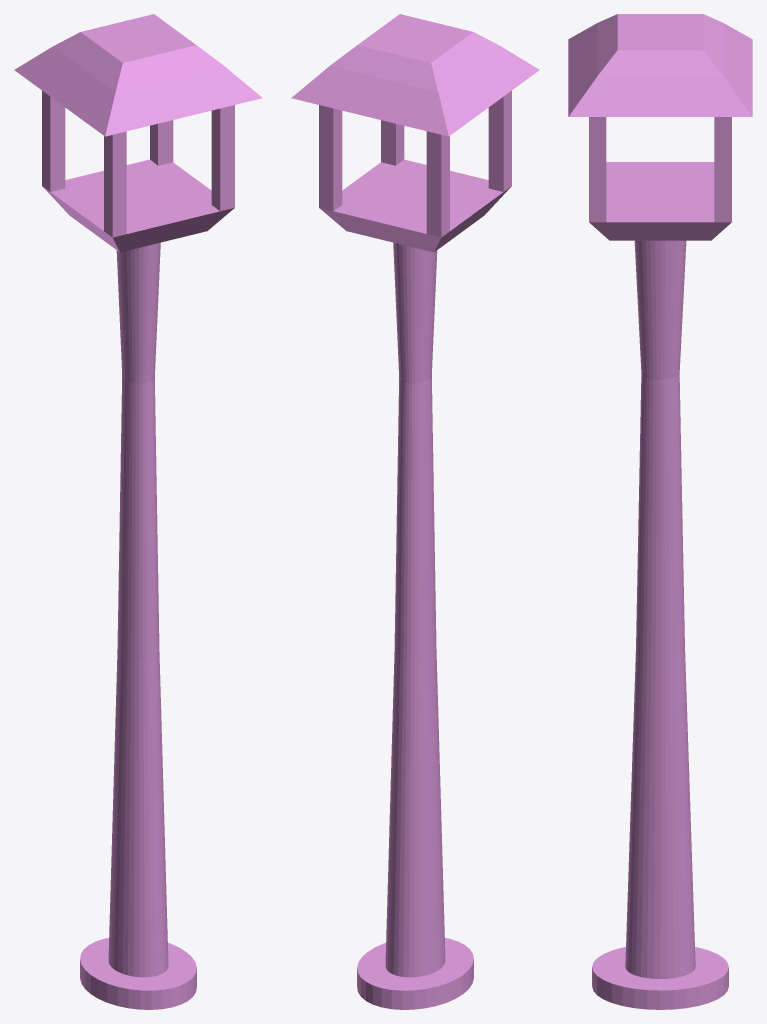
Rendered from Lamp.fbx.
The picture shows the model from 3 angles, left to right: view 1: azimuth 30°, elevation 25°; view 2: azimuth 150°, elevation 25°; view 3: azimuth 270°, elevation 25°; orthographic projection.
Parts seen in each view (by area): view 1: Cylinder, Cube; view 2: Cylinder, Cube; view 3: Cylinder, Cube.
Part boxes in pixels (box(x1,y1,x2,y2)): Cylinder: box(80, 242, 196, 1009); Cube: box(14, 14, 262, 252); Cylinder: box(357, 242, 473, 1009); Cube: box(291, 14, 539, 252); Cylinder: box(592, 240, 728, 1009); Cube: box(568, 14, 752, 240).
Bounding box in the file's own units: 220 × 1258 × 220.
